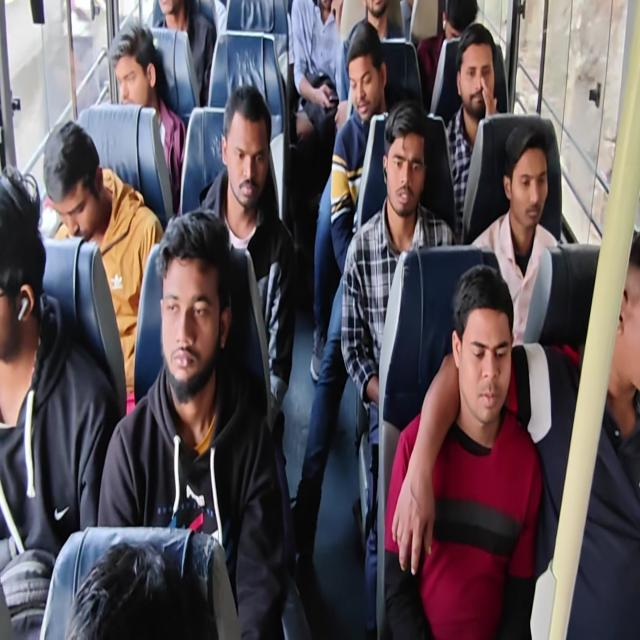person: (0, 157, 48, 363), (449, 274, 512, 424), (160, 232, 217, 385), (38, 142, 106, 246), (224, 102, 272, 208), (108, 27, 159, 114)
